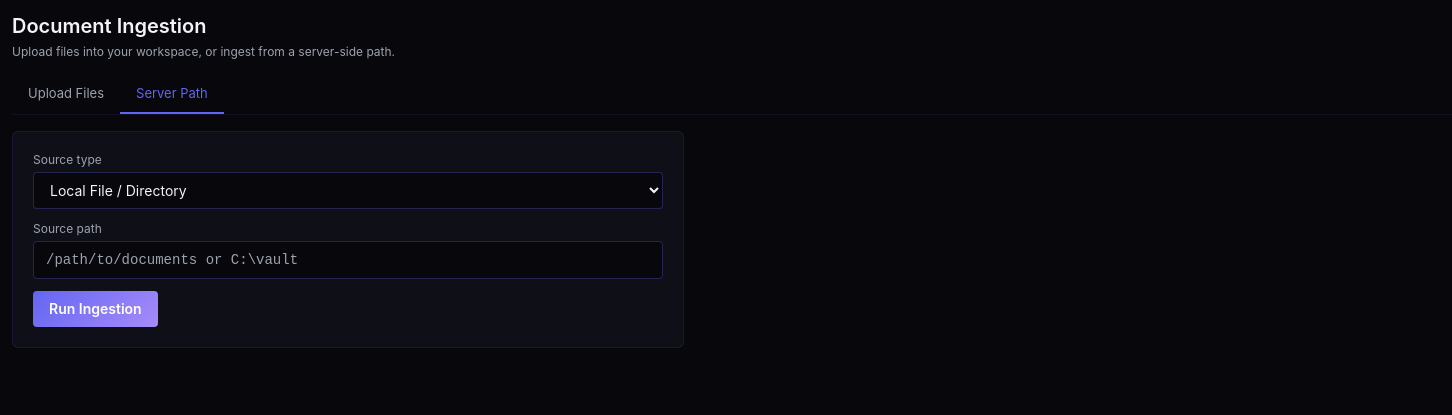
Test: IngestionView › shows API error detail on failed ingest
Type "/missing" into the field with placeholder "/path/to/documents or C:\\vault" at [348, 260], box x1=33 y1=240 x2=663 y2=278
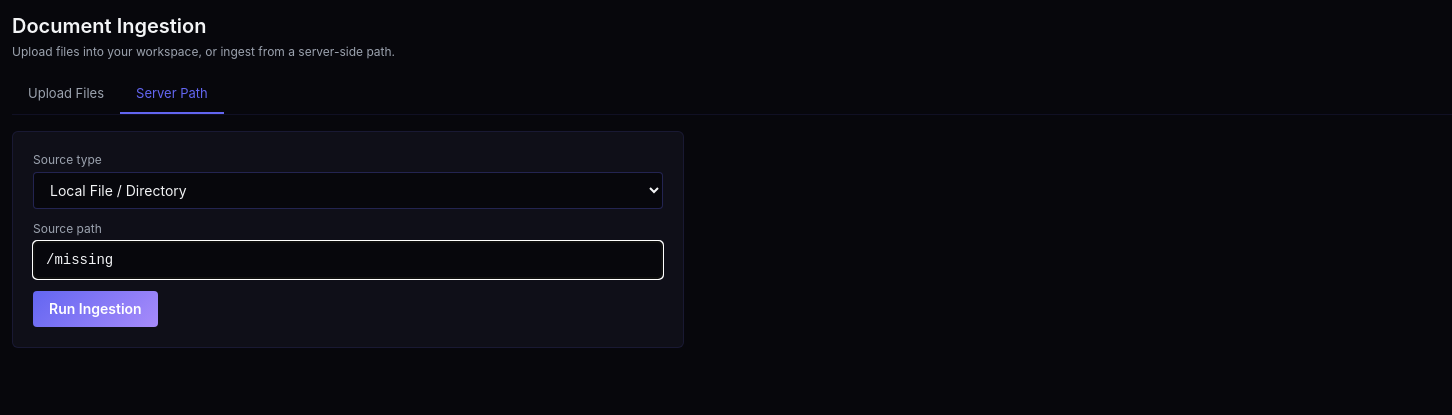
Click the button "Run Ingestion" at [95, 308], box x1=33 y1=290 x2=158 y2=326
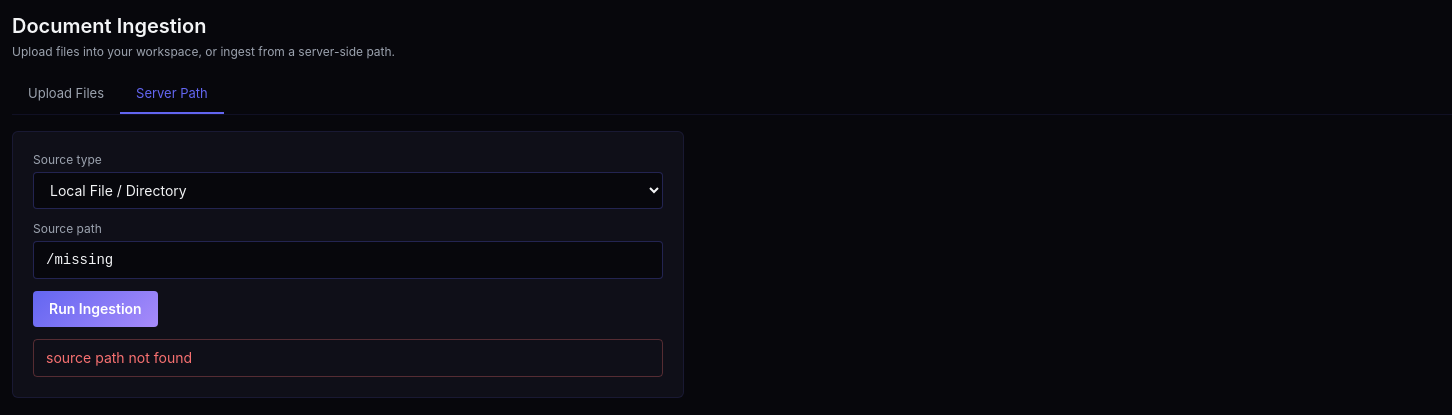
expect the text "source path not found" is shown: met, box x1=33 y1=338 x2=663 y2=376
